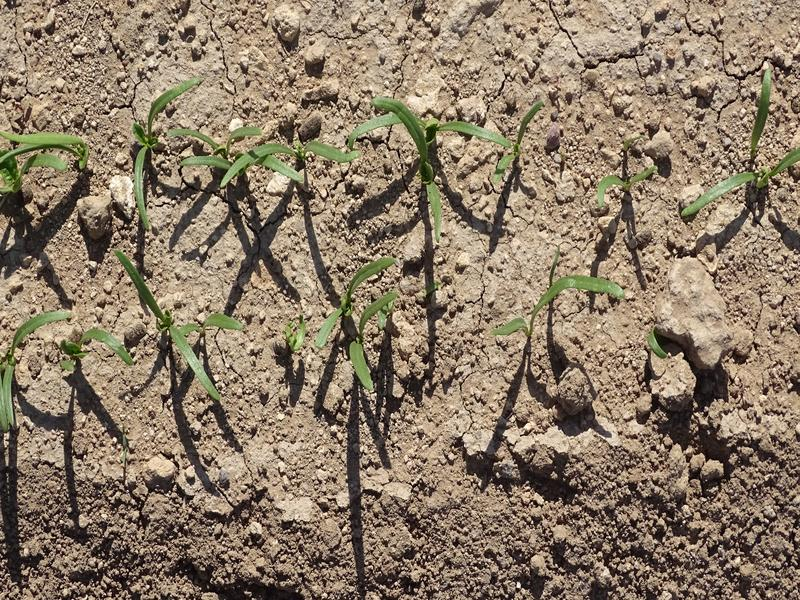Espinaca: (131, 80, 503, 247), (116, 255, 248, 413), (687, 73, 800, 212), (318, 258, 390, 389), (495, 272, 618, 348), (2, 304, 77, 425), (1, 125, 94, 186), (596, 161, 654, 212)
